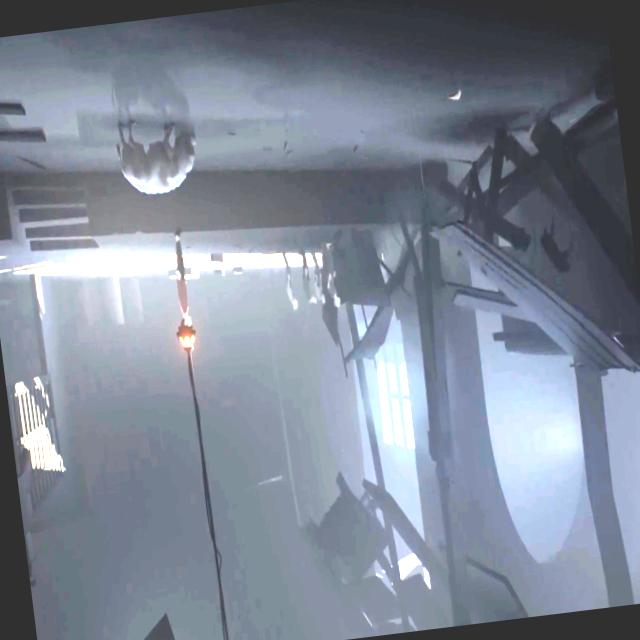boy: (167, 226, 194, 326)
zombie: (322, 240, 340, 310), (281, 248, 299, 312), (298, 246, 316, 308), (310, 246, 326, 305)
